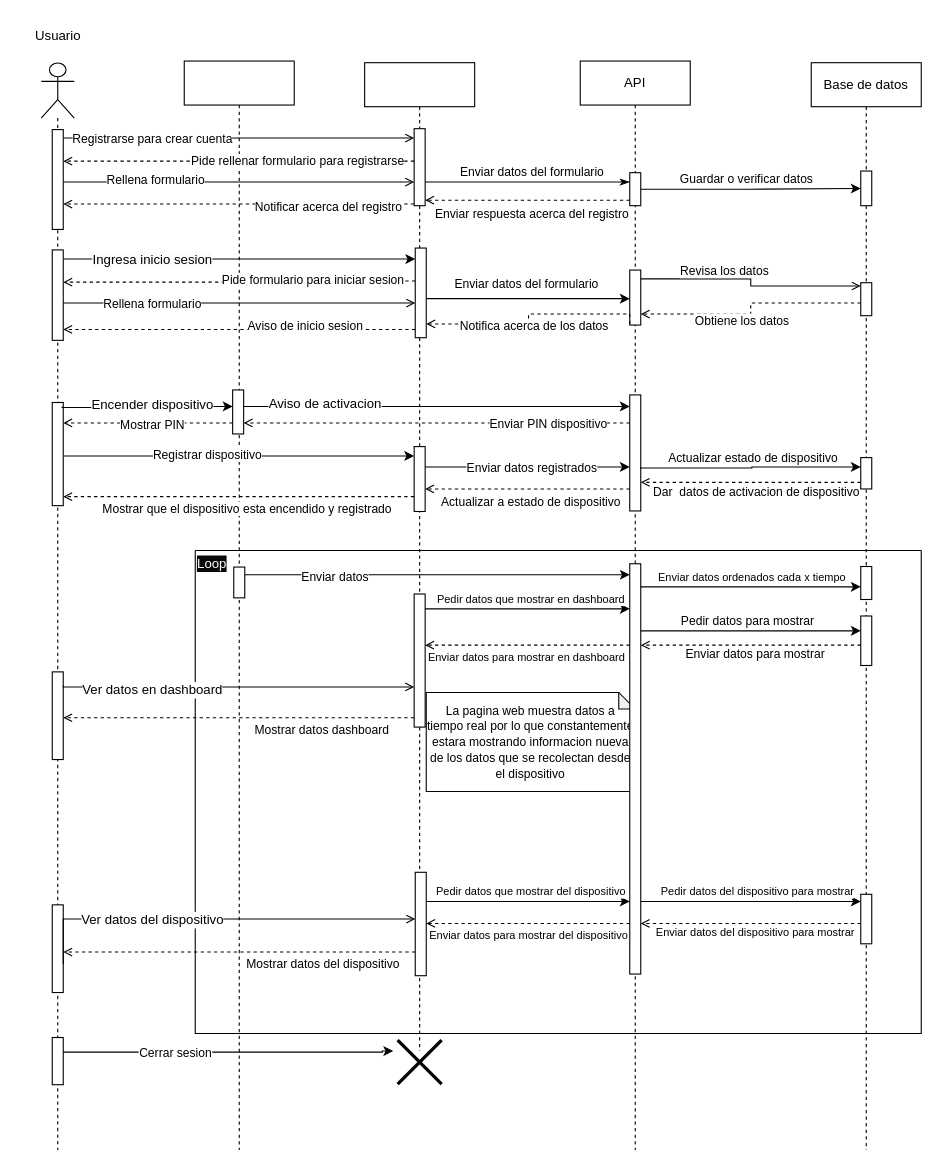
The diagram is 941 pixels wide and 1169 high, and some of its shapes have lost their labels. The shapes that lost their labels are listed below. From the top down, each one's box as (x1, y1, x2, y2) in pixels, then its label:
(364, 62, 475, 1051): Web
(183, 60, 294, 1150): Dispositivo
